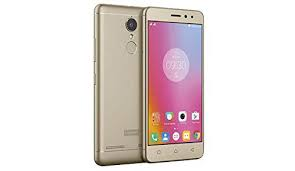lenovo: (140, 4, 207, 164), (91, 2, 140, 168)
